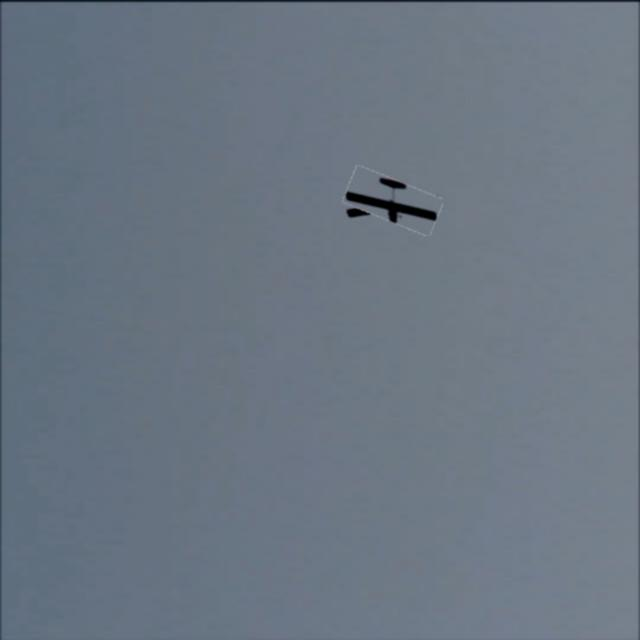plane: (340, 162, 439, 229)
